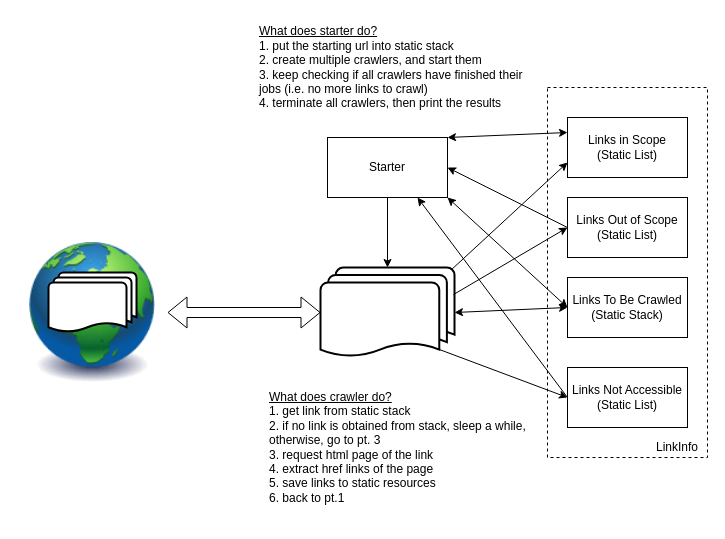
This 725x539 diagram has some shape labels left out. The shapes that lost their labels are listed below. From the top down, each one's centre as x and y in pixels, then its label:
the point at 92,302: HTML pages
the point at 387,312: Crawlers (multi-threads)
